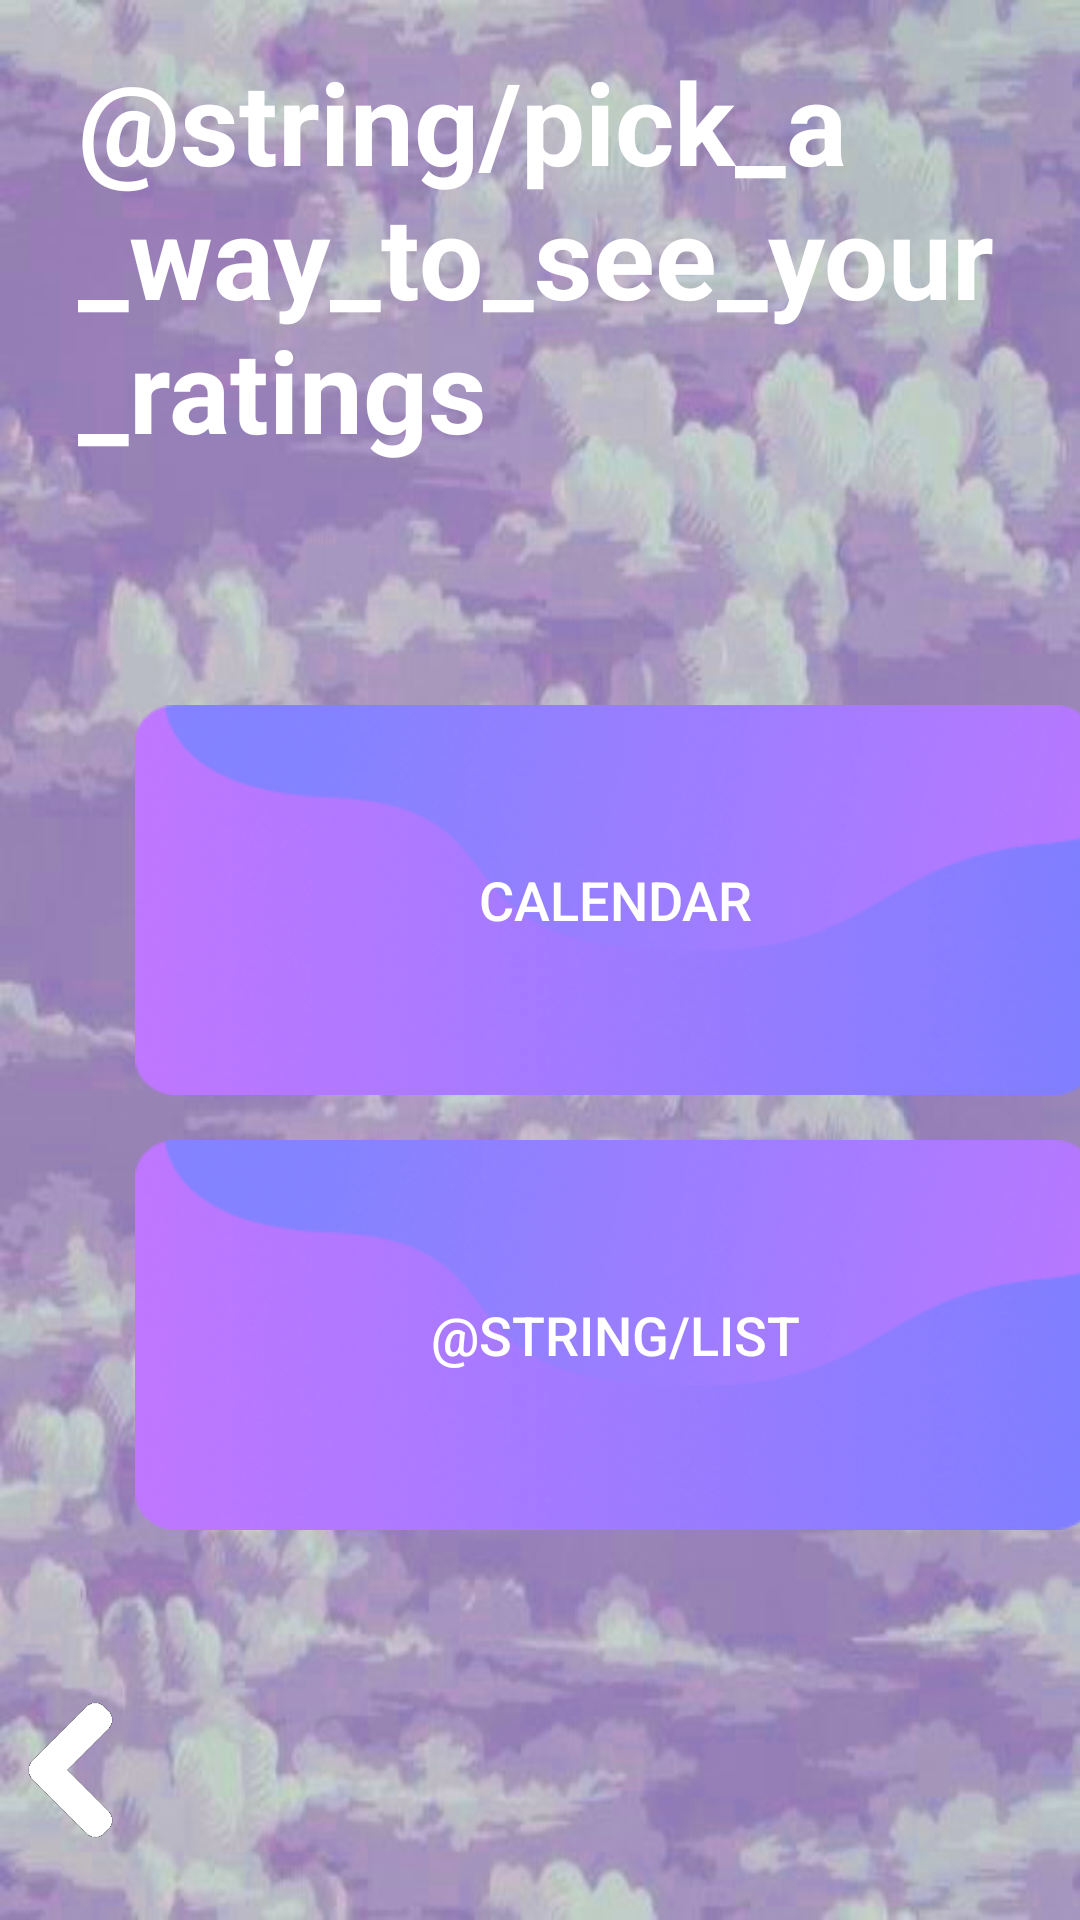

Where icons sit on this 1080px x 1920px app screen, as region(x1, y1, x2, y2):
left arrow: region(0, 1680, 169, 1860)
